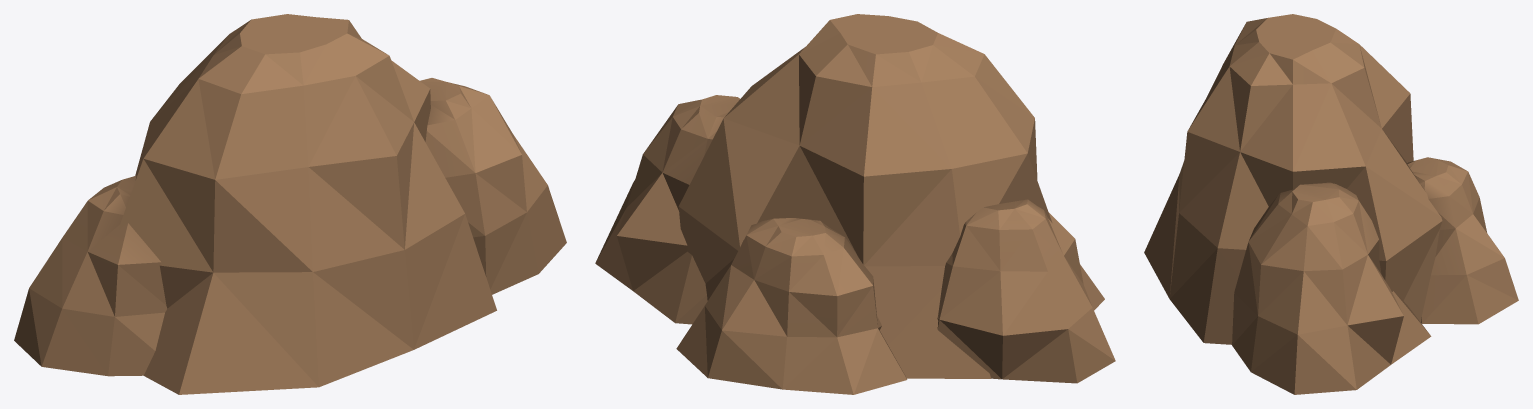
File: CliffCluster.glb
3 renders of one model, left to right at view 1: azimuth 30°, elevation 25°; view 2: azimuth 150°, elevation 25°; view 3: azimuth 270°, elevation 25°, orthographic. The views are drawn at different scales.
Parts seen in each view (by area): view 1: export_CliffCluster; view 2: export_CliffCluster; view 3: export_CliffCluster.
Boxes of the visible parts, x1,y1,x2,y2 form: export_CliffCluster: (14, 14, 566, 394); export_CliffCluster: (595, 14, 1115, 394); export_CliffCluster: (1144, 14, 1518, 394).
Size of the model in its own units: 6.3 by 3.2 by 4.49.
